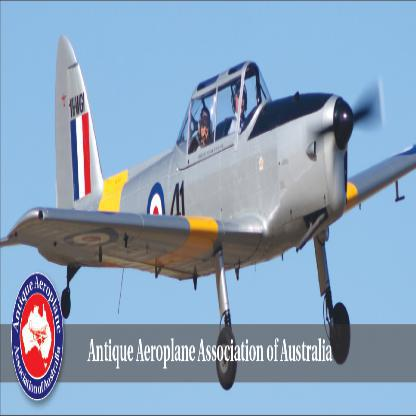CIV_Plane: (3, 34, 404, 380)
